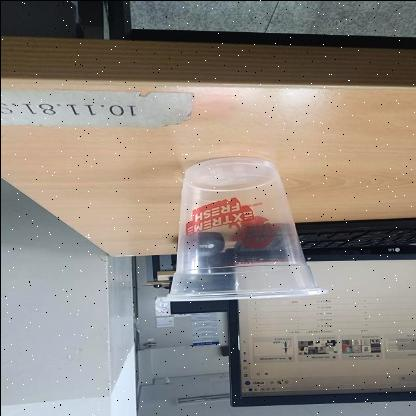Others: (160, 156, 330, 300)
